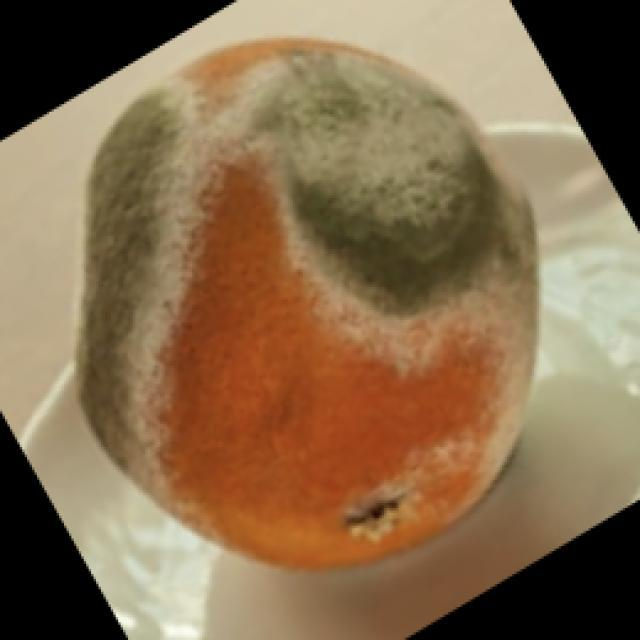sangat-busuk: (76, 40, 537, 568)
